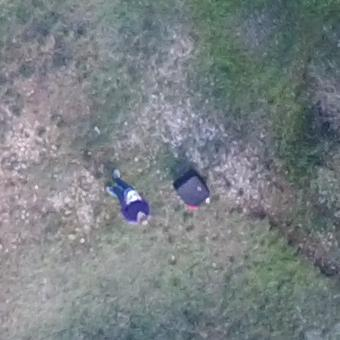human: (101, 169, 154, 228)
